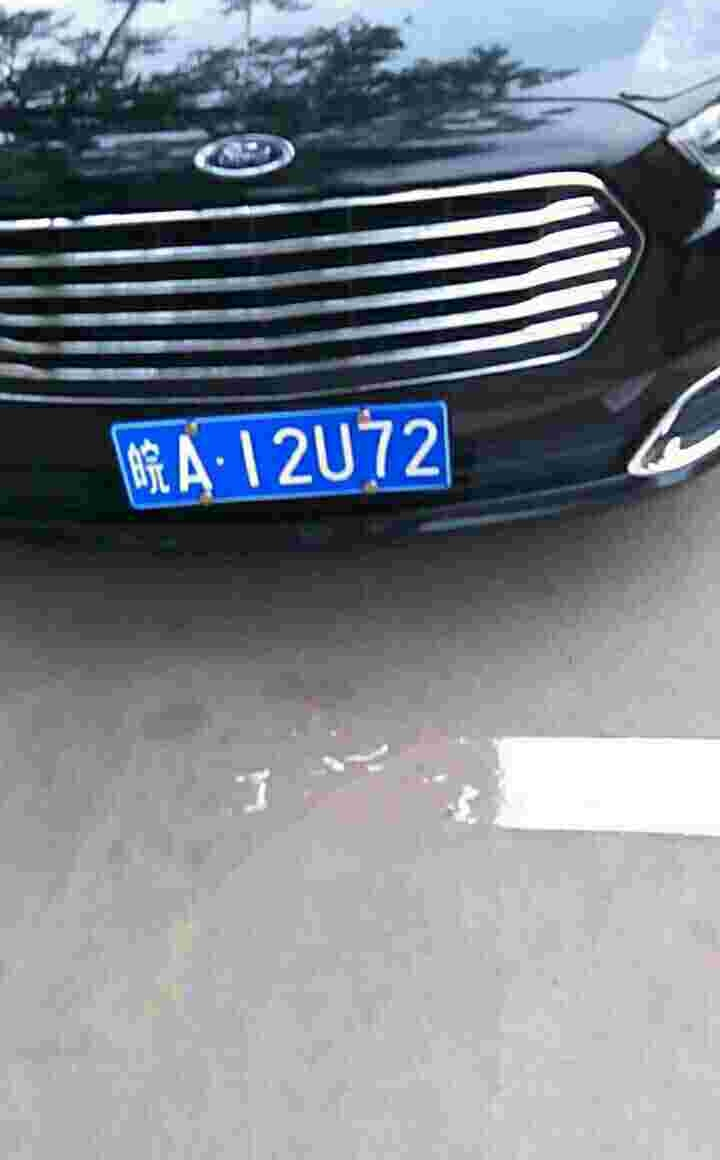license_plate: (99, 402, 456, 525)
